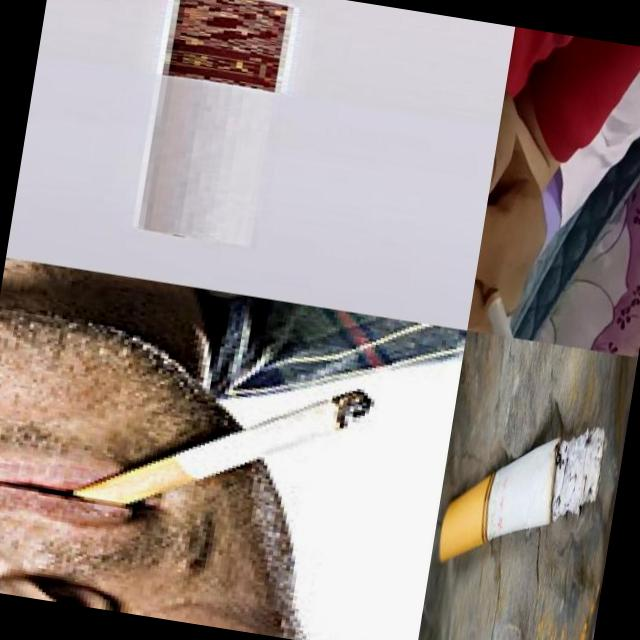cigarette: (69, 346, 378, 554), (131, 0, 300, 252), (436, 402, 610, 588), (467, 250, 550, 342)
